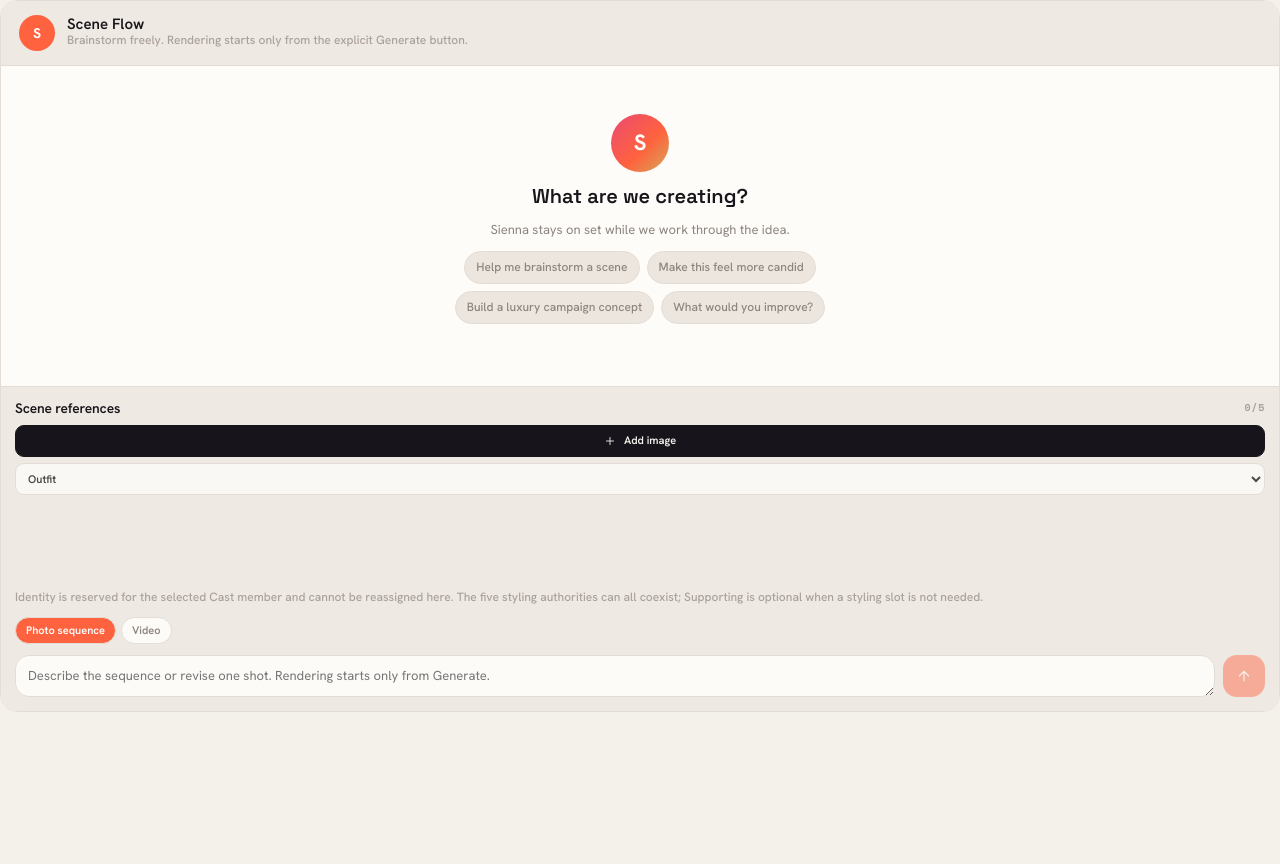
Scenario: Scene Flow planning versus rendering › keeps the latest dialogue visible above the shot board
Step 1. Replace the text in the text box with placeholder "Describe the sequence" with "Give me five photos." → (615, 676), box [15, 655, 1215, 697]
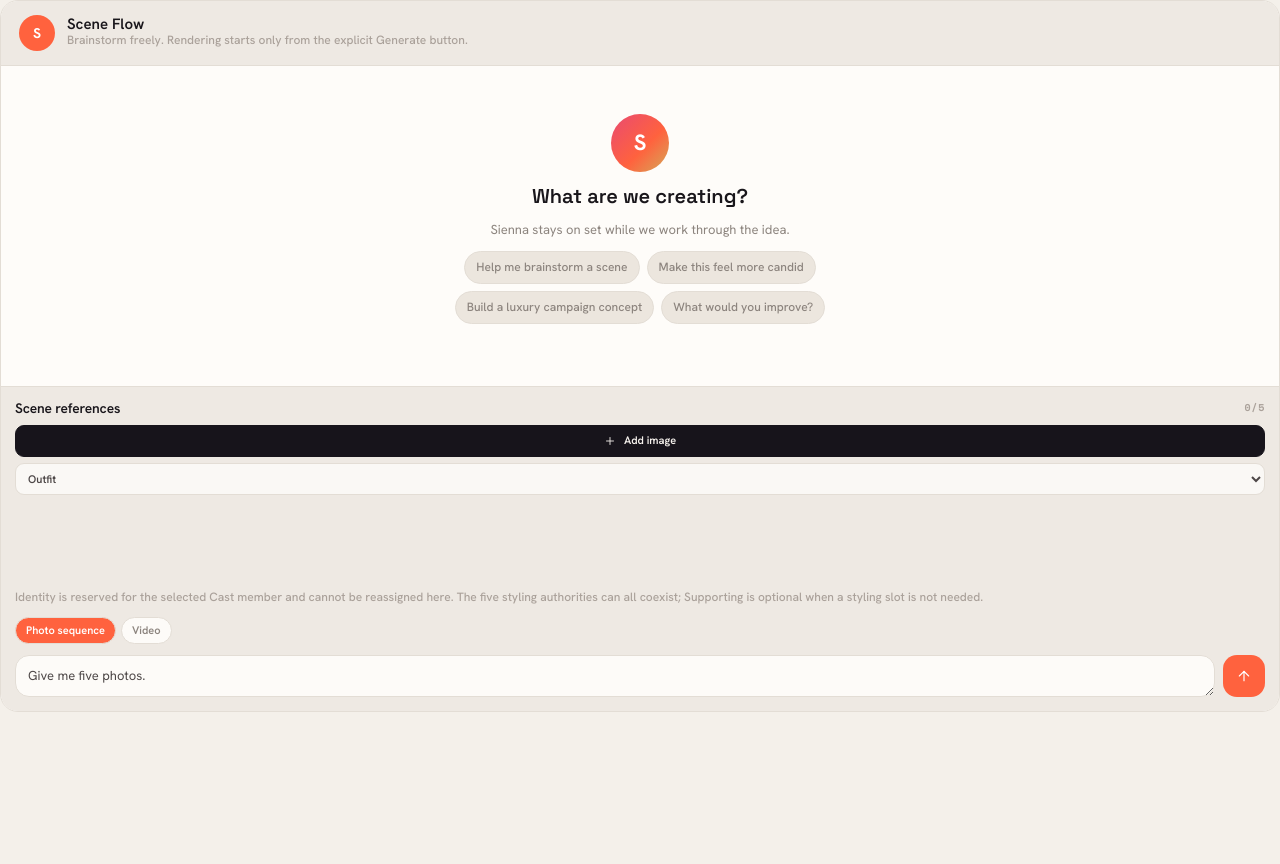
Step 2. Click the button titled "Send" → (1244, 676), box [1223, 655, 1265, 697]
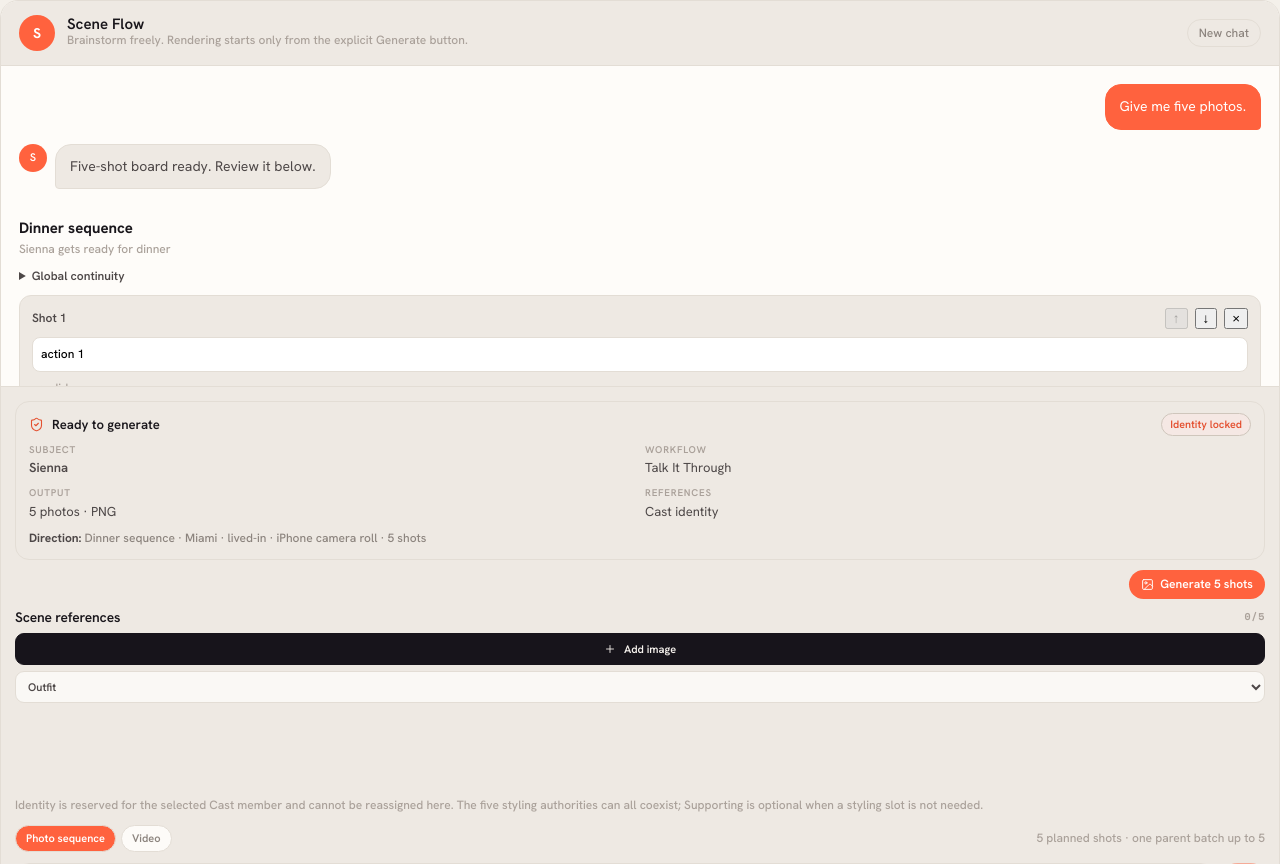
Check: the element named "Scene Flow reply" shows "Five-shot board ready. Review it below.", box [70, 157, 316, 175]
